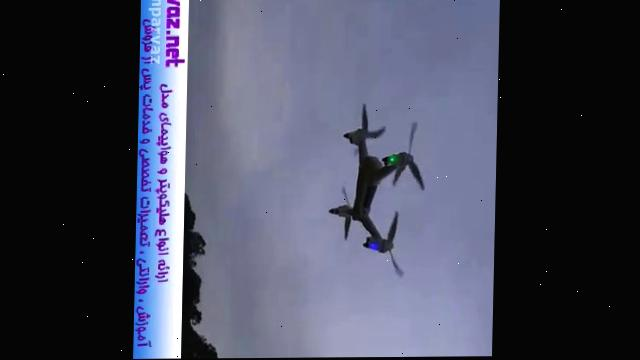drone: (327, 99, 430, 282)
